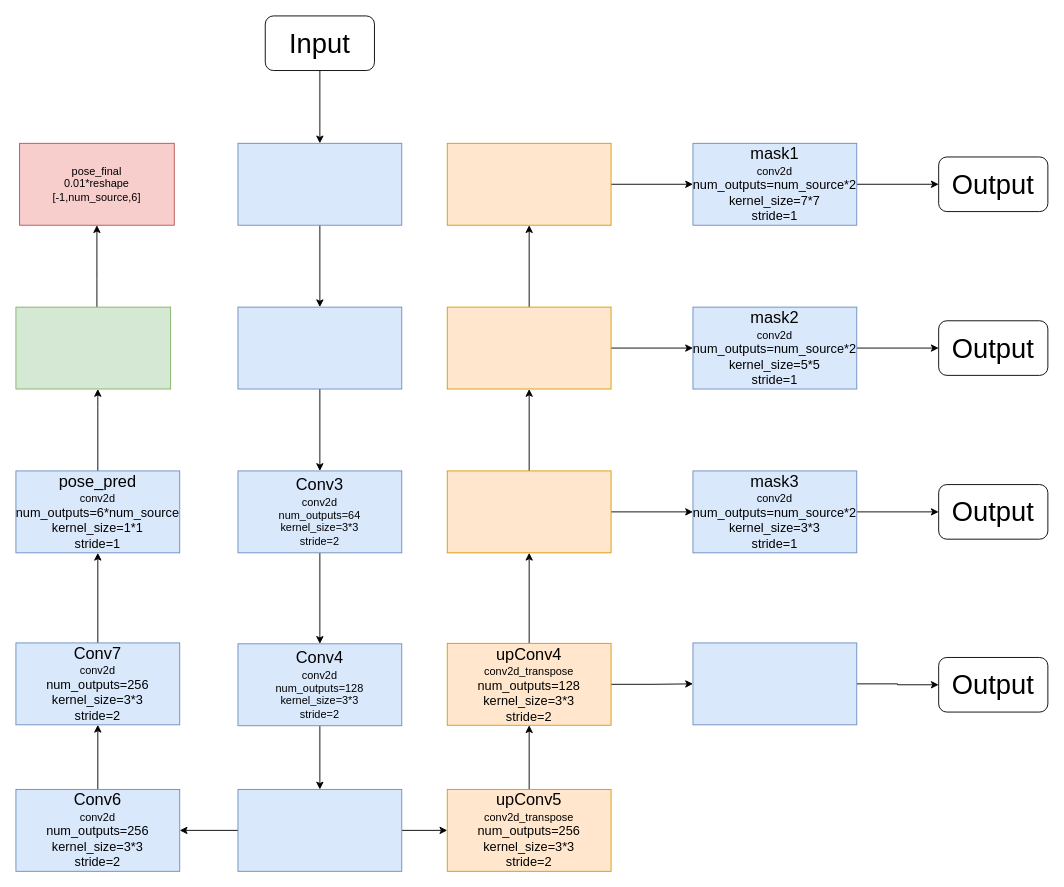
This 1064x887 diagram has some shape labels left out. The shapes that lost their labels are listed below. From the top down, each one's centre as x and y in pixels, then its label:
At point (319, 183): "Conv1 conv2d num_outputs=16 kernel_size=7*7 stride=2".
At point (528, 183): "upConv1 conv2d_transpose num_outputs=16 kernel_size=7*7 stride=2".
At point (93, 347): "pose_avg reduce_mean axis=[1,2]".
At point (319, 347): "Conv2 conv2d num_outputs=32 kernel_size=5*5 stride=2".
At point (528, 347): "upConv2 conv2d_transpose num_outputs=32 kernel_size=5*5 stride=2".
At point (528, 511): "upConv3 conv2d_transpose num_outputs=64 kernel_size=3*3 stride=2".
At point (774, 683): "mask4 conv2d num_outputs=num_source*2 kernel_size=3*3 stride=1".
At point (319, 830): "Conv5 conv2d num_outputs=256 kernel_size=3*3 stride=2".
